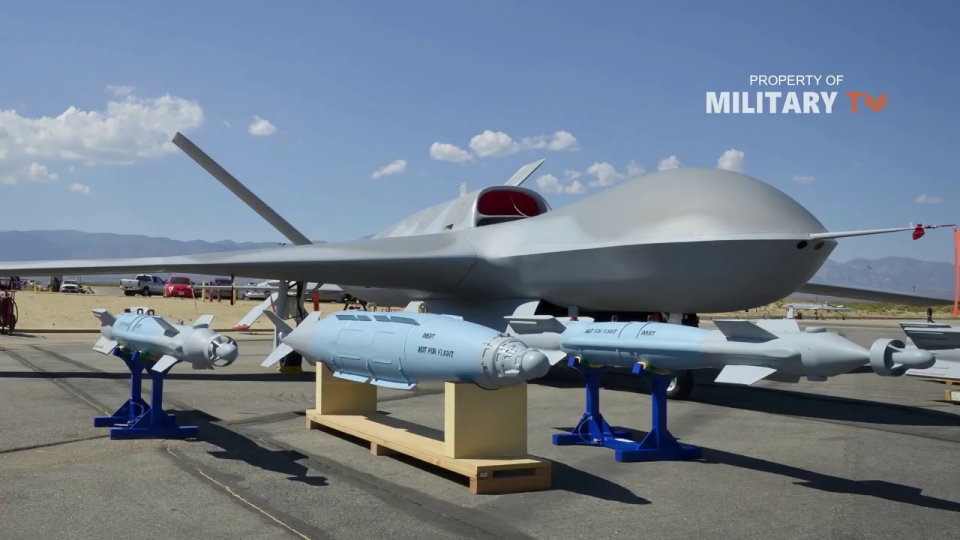military drone: (0, 131, 960, 330)
